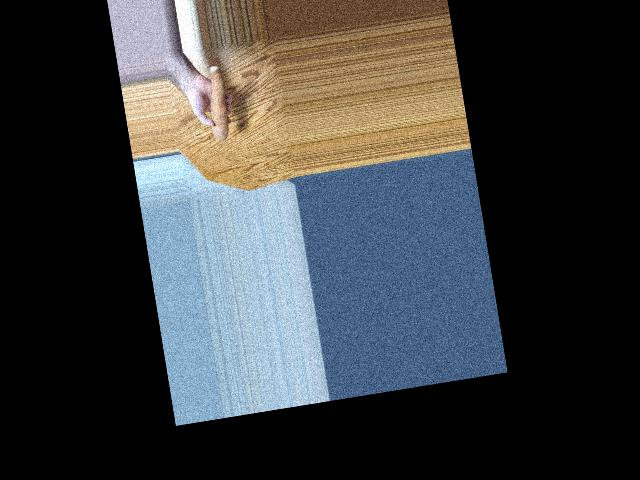sweet_potato: (207, 70, 237, 141)
